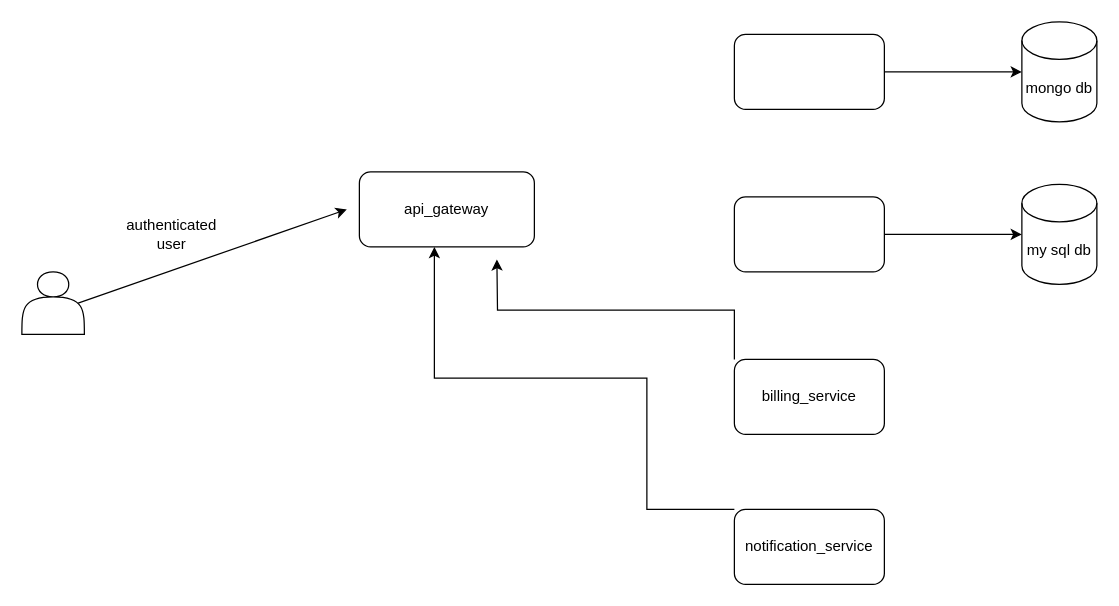
This 1119x606 diagram has some shape labels left out. The centre of each missing label's shape, as x and y in pixels:
"rental_service" goes at (x=808, y=234).
"user_service" goes at (x=808, y=71).
